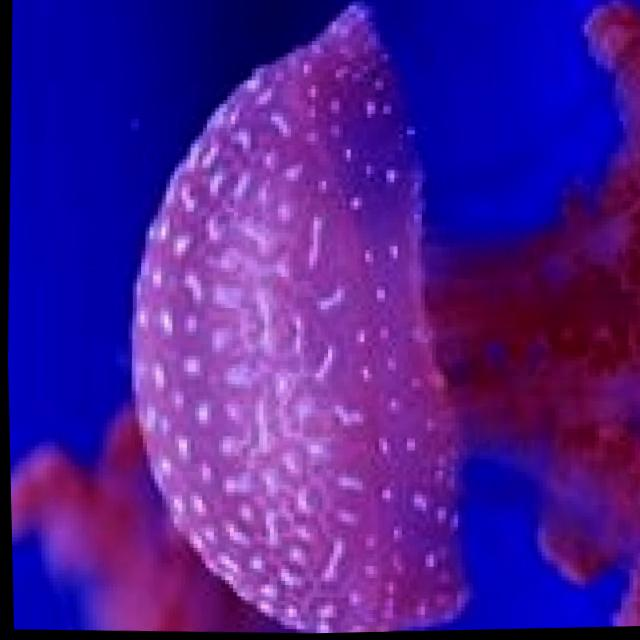Box-jellyfish: (105, 0, 640, 638), (7, 394, 412, 640)
